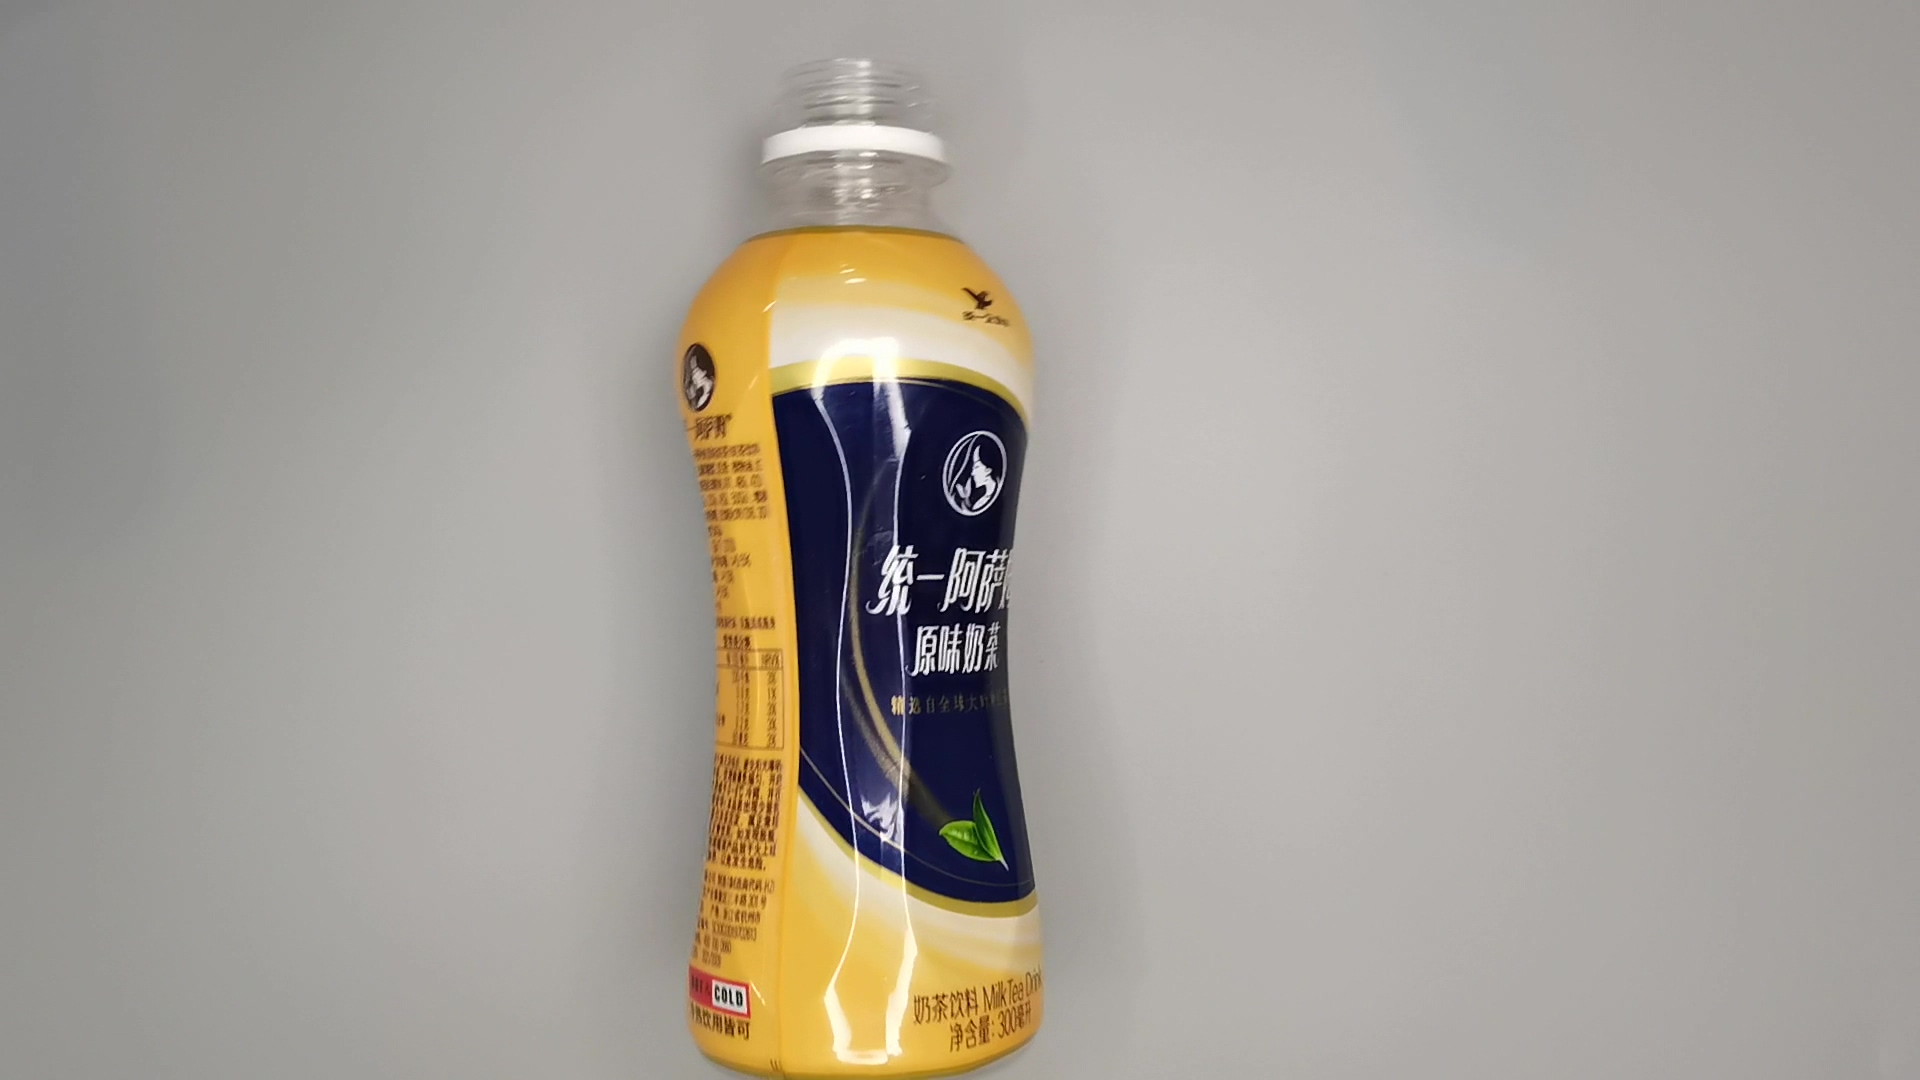bottle: (662, 53, 1071, 1080)
